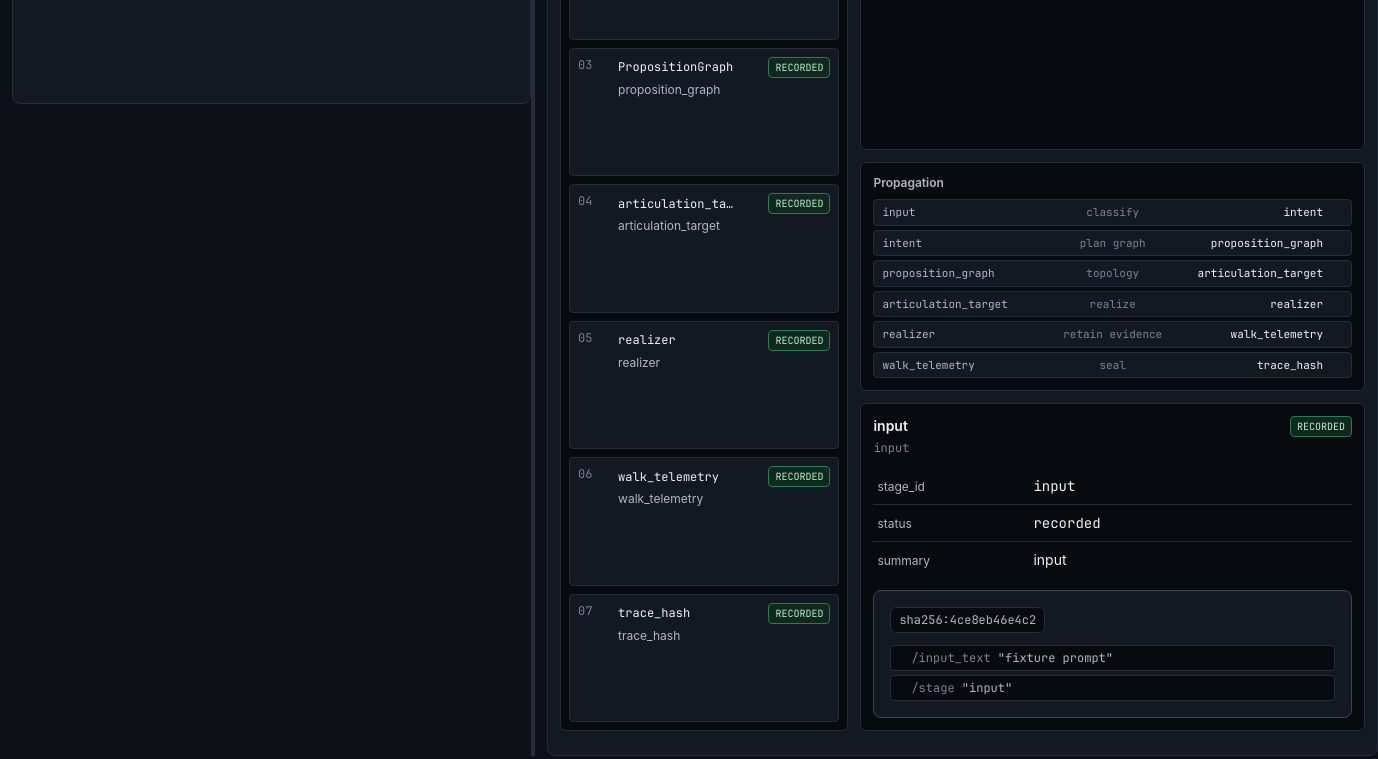
Test: TraceRoute › selects pipeline stages from the deterministic stage rail
(page scrolled)
Click the button "05 realizer recorded realizer". click: (647, 340)
box: x1=569 y1=321 x2=839 y2=449
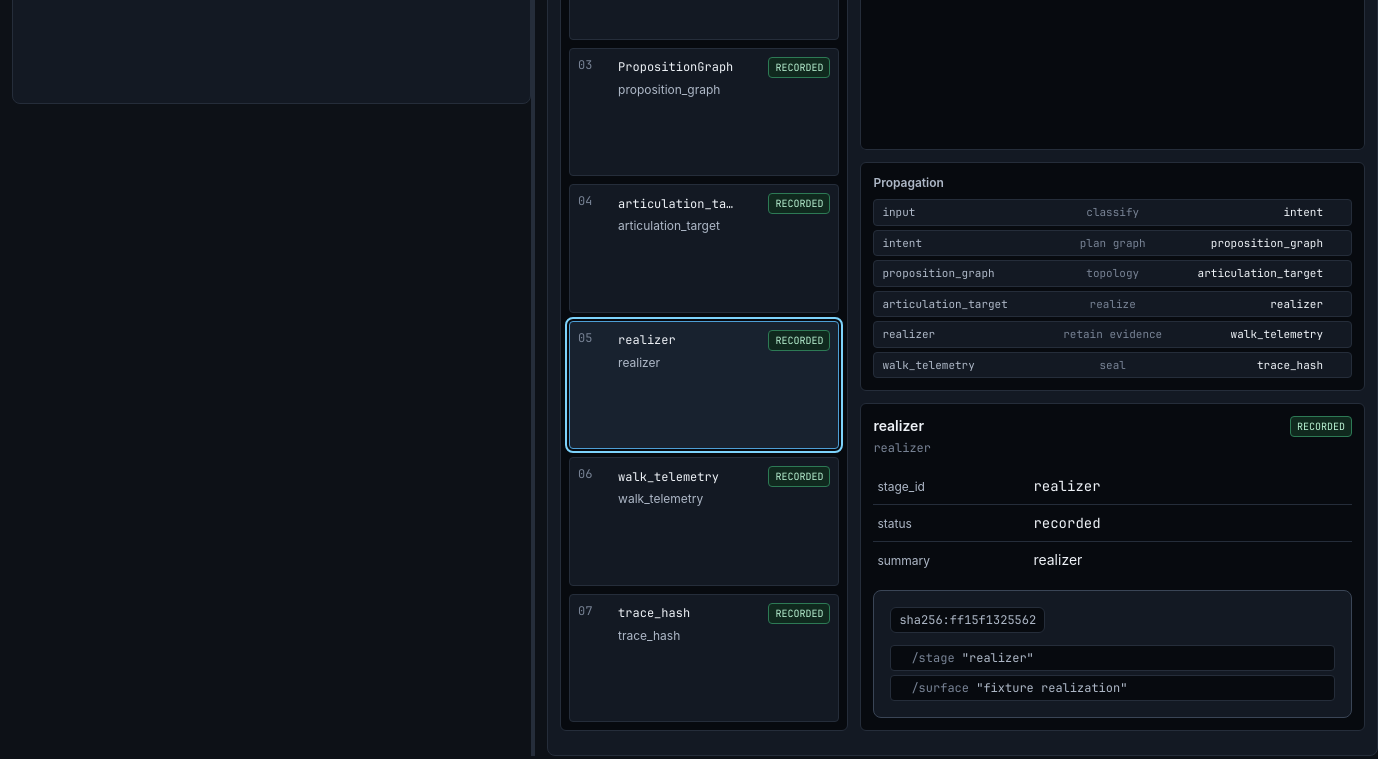
Expected: the button "/surface \"fixture realization\"" is shown, x1=890 y1=675 x2=1335 y2=701
